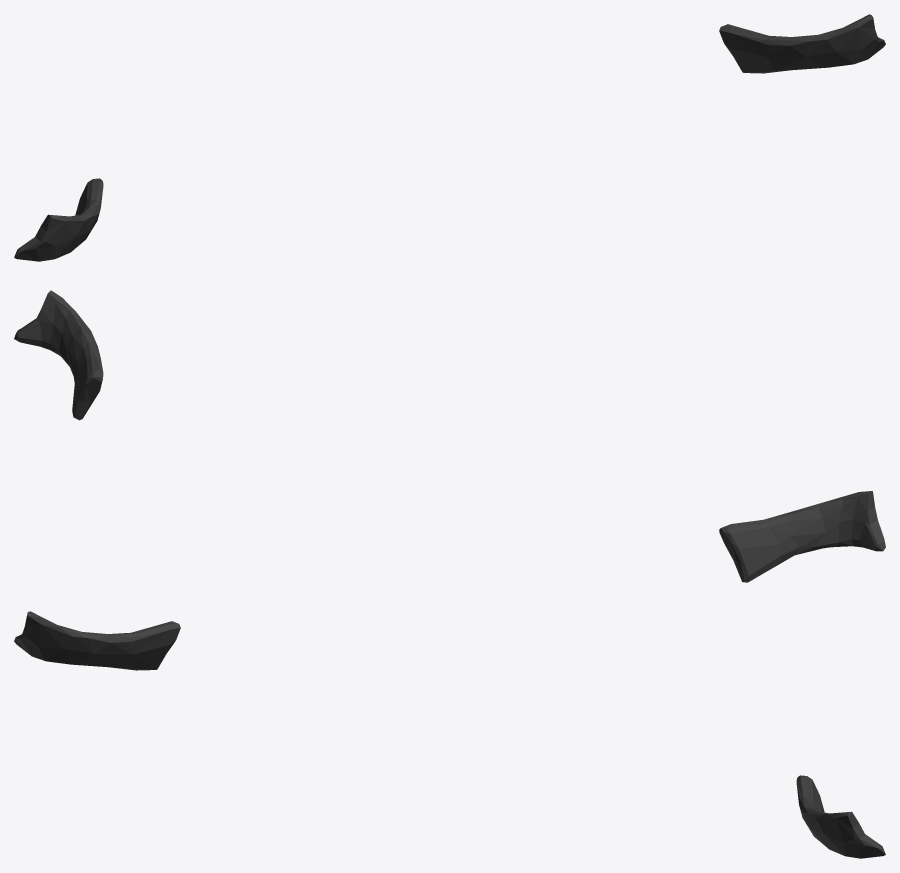
File: retinac_transv_humeral.glb
3 views of the same model, one above another, from view 1: azimuth 30°, elevation 25°; view 2: azimuth 150°, elevation 25°; view 3: azimuth 330°, elevation 25° (orthographic).
Parts seen in each view (by area): view 1: retinac_transv_humeral; view 2: retinac_transv_humeral; view 3: retinac_transv_humeral.
Part boxes in pixels (bbox=[...]): retinac_transv_humeral: bbox=[14, 14, 885, 261]; retinac_transv_humeral: bbox=[14, 290, 885, 582]; retinac_transv_humeral: bbox=[14, 611, 885, 858].
Size of the model in its own units: 0.00339 by 0.00028 by 0.000367.
Materials: 1 (1 with a texture image).
